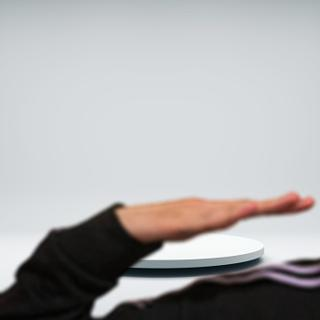Wait: (119, 179, 318, 254)
